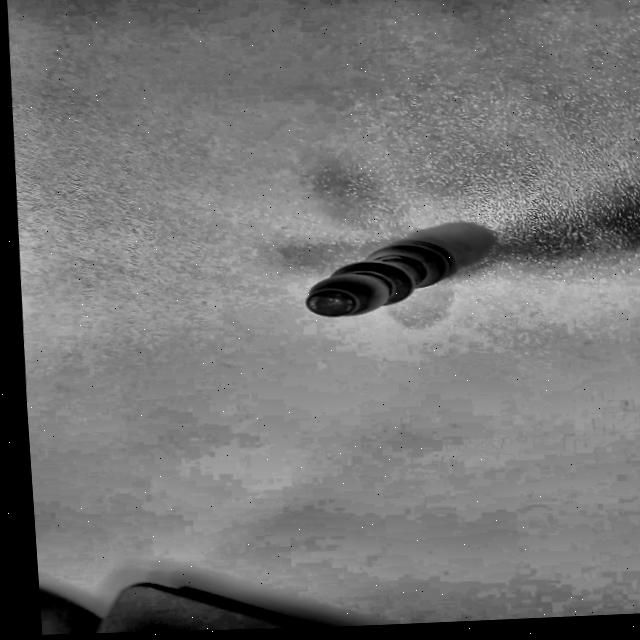black-bishop: (289, 233, 463, 323)
